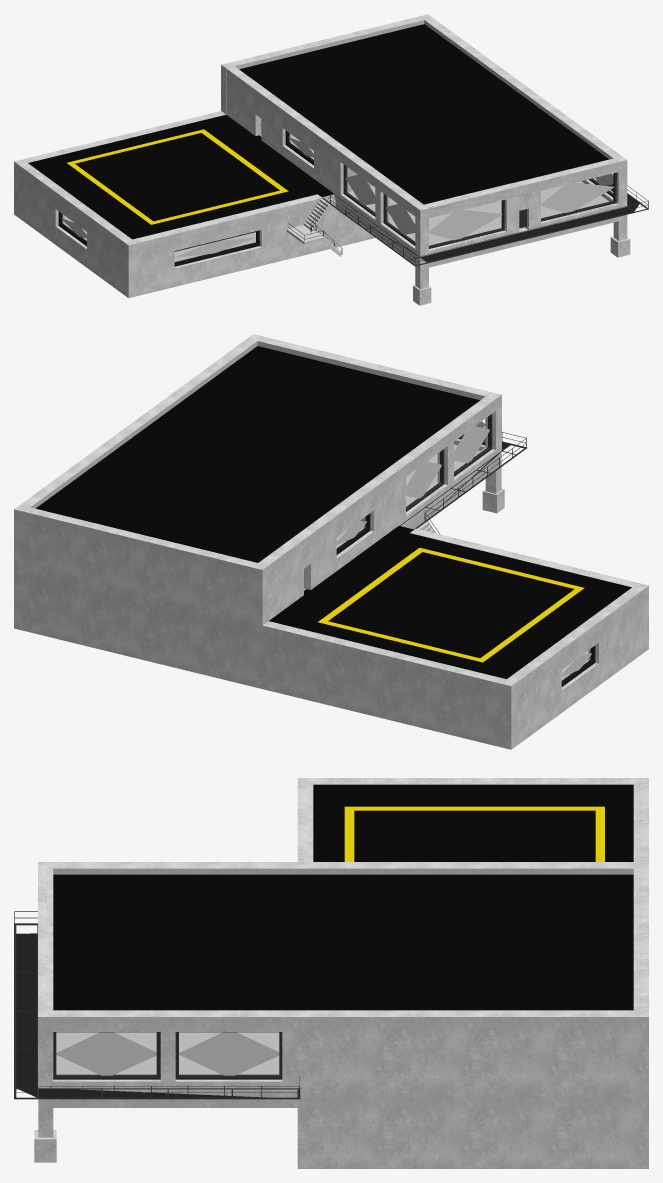
File: military-hq.zfix-v14.lod1.glb
3 renders of one model, top to bottom at view 1: azimuth 30°, elevation 25°; view 2: azimuth 150°, elevation 25°; view 3: azimuth 270°, elevation 25°, orthographic. The views are drawn at different scales.
Visible parts, largest first — view 1: Walls_Floor_2_0, Walls_Outer_Walls_0, Railing_Railing_0, Walls_Inner_walls_0; view 2: Walls_Floor_2_0, Walls_Outer_Walls_0, Walls_Inner_walls_0, Railing_Railing_0; view 3: Walls_Floor_2_0, Walls_Outer_Walls_0, Railing_Railing_0, Walls_Inner_walls_0.
Boxes of the visible parts, x1,y1,x2,y2 form: Walls_Floor_2_0: [28, 24, 638, 266]; Walls_Outer_Walls_0: [14, 14, 630, 305]; Railing_Railing_0: [288, 164, 648, 266]; Walls_Inner_walls_0: [38, 20, 613, 241]; Walls_Floor_2_0: [36, 346, 631, 686]; Walls_Outer_Walls_0: [14, 334, 648, 749]; Walls_Inner_walls_0: [30, 341, 631, 680]; Railing_Railing_0: [399, 414, 527, 534]; Walls_Floor_2_0: [16, 784, 633, 1097]; Walls_Outer_Walls_0: [34, 778, 648, 1168]; Railing_Railing_0: [14, 911, 300, 1099]; Walls_Inner_walls_0: [53, 868, 633, 874].
Size of the model in its own units: 40.21 by 8.93 by 33.7.
Materials: 6 (3 with a texture image).
